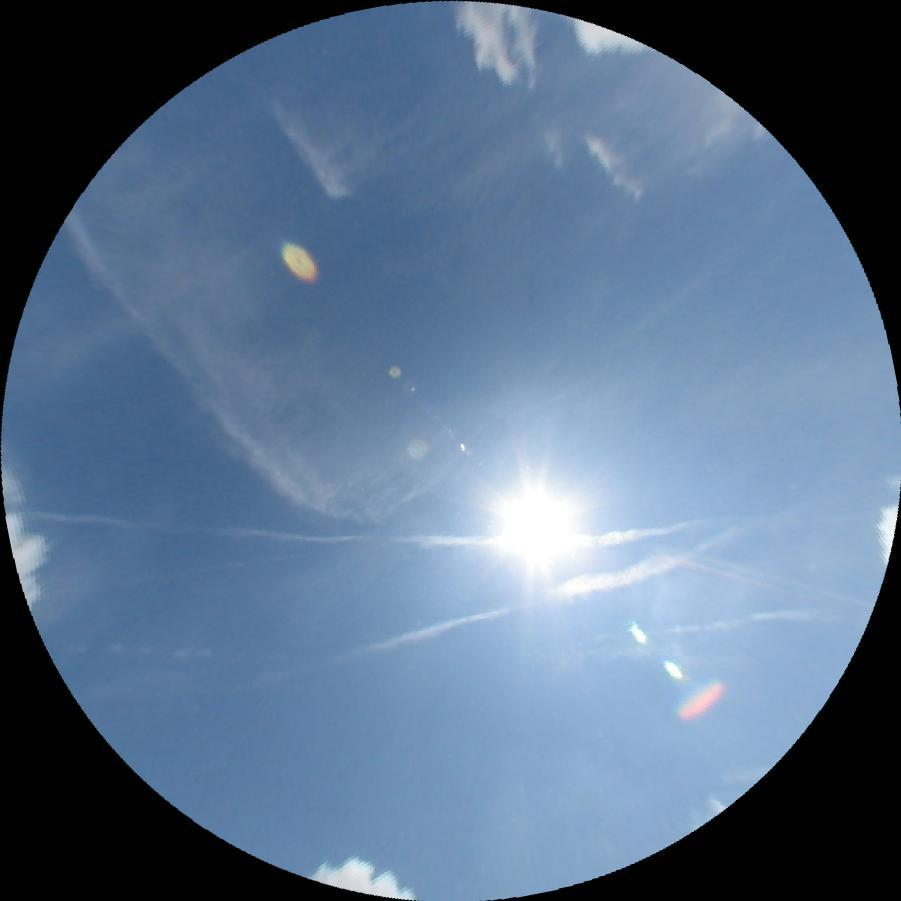contrail veryold: (350, 524, 741, 672), (36, 512, 718, 548)
parasite: (26, 548, 314, 599)
sun: (506, 492, 569, 548)
unknow: (650, 607, 813, 638)
